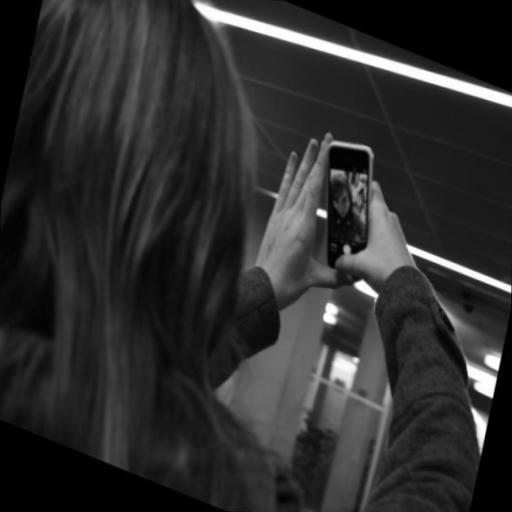phone: (321, 145, 375, 260)
